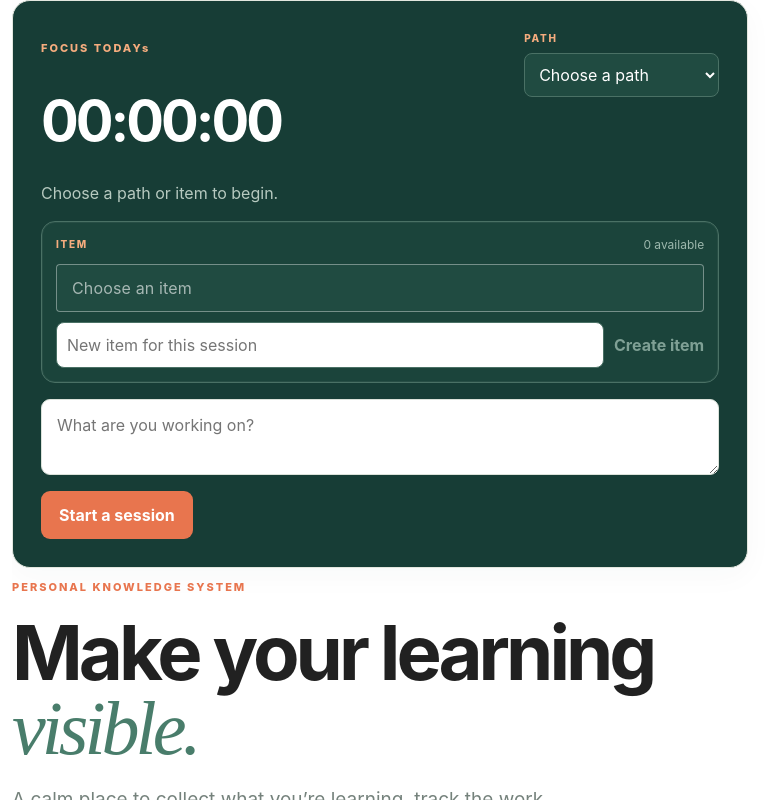
Test: DashboardView timer flow › starts a server timer and can cancel the active session
Click the button "Start a session". click: (117, 514)
box: left=41, top=490, right=193, bottom=538
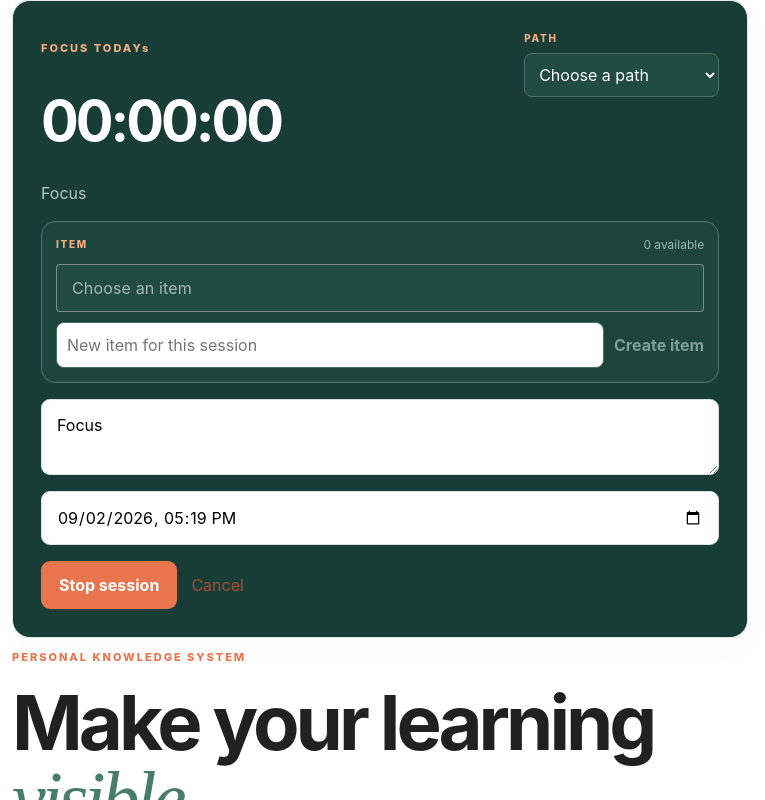
Result: the text "Stop session" is shown at left=41, top=560, right=177, bottom=608
Click the button with class "danger". click: (218, 584)
box: left=191, top=572, right=244, bottom=596
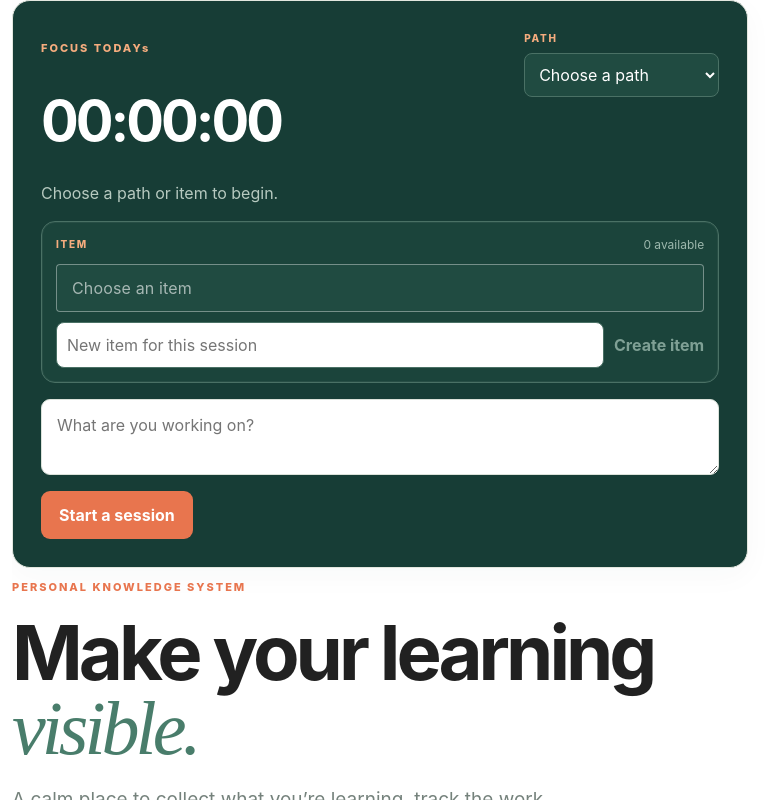
Result: the text "Start a session" is shown at left=41, top=490, right=193, bottom=538
